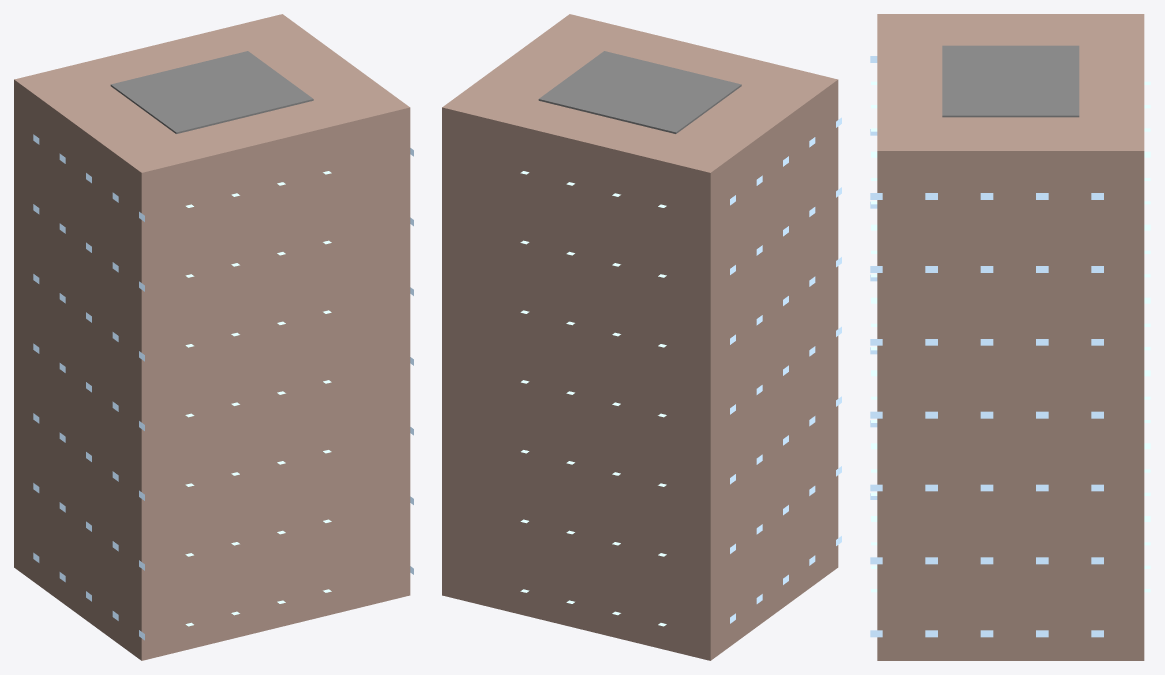
Rendered from residential_3.glb.
3 views of the same model, side by side, from view 1: azimuth 30°, elevation 25°; view 2: azimuth 150°, elevation 25°; view 3: azimuth 270°, elevation 25° (orthographic). The views are drawn at different scales.
Visible parts, largest first — view 1: residential_3_body, residential_3_roof; view 2: residential_3_body, residential_3_roof; view 3: residential_3_body, residential_3_roof.
Part boxes in pixels (x1,y1,x2,y2): residential_3_body: (14, 14, 410, 660); residential_3_roof: (110, 51, 313, 133); residential_3_body: (442, 14, 838, 660); residential_3_roof: (538, 51, 741, 133); residential_3_body: (877, 14, 1144, 660); residential_3_roof: (942, 45, 1079, 117).
Size of the model in its own units: 12.91 by 22.53 by 11.17.
